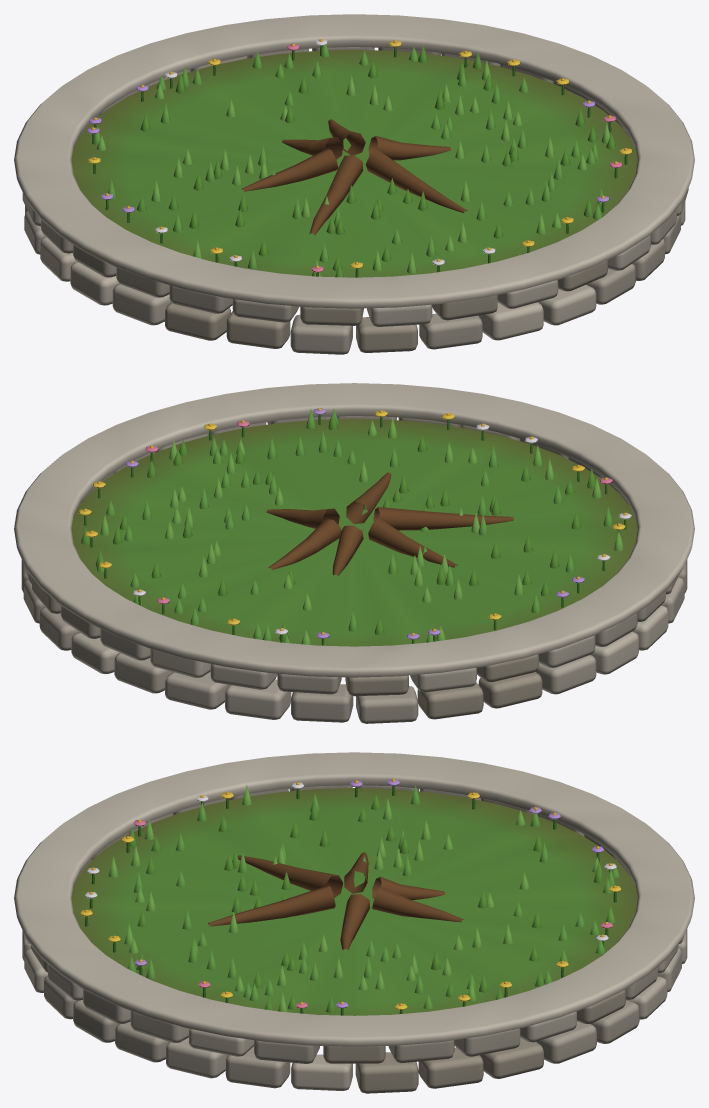
File: bigtree_planter.glb
3 views of the same model, one above another, from view 1: azimuth 30°, elevation 25°; view 2: azimuth 150°, elevation 25°; view 3: azimuth 270°, elevation 25° (orthographic).
Parts seen in each view (by area): view 1: bigtree_planter_main; view 2: bigtree_planter_main; view 3: bigtree_planter_main.
Boxes of the visible parts, left/top/right/bottom form: bigtree_planter_main: left=14, top=14, right=694, bottom=354; bigtree_planter_main: left=14, top=383, right=694, bottom=723; bigtree_planter_main: left=14, top=752, right=694, bottom=1093.
Bounding box in the file's own units: 3.32 × 0.3929 × 3.32.
